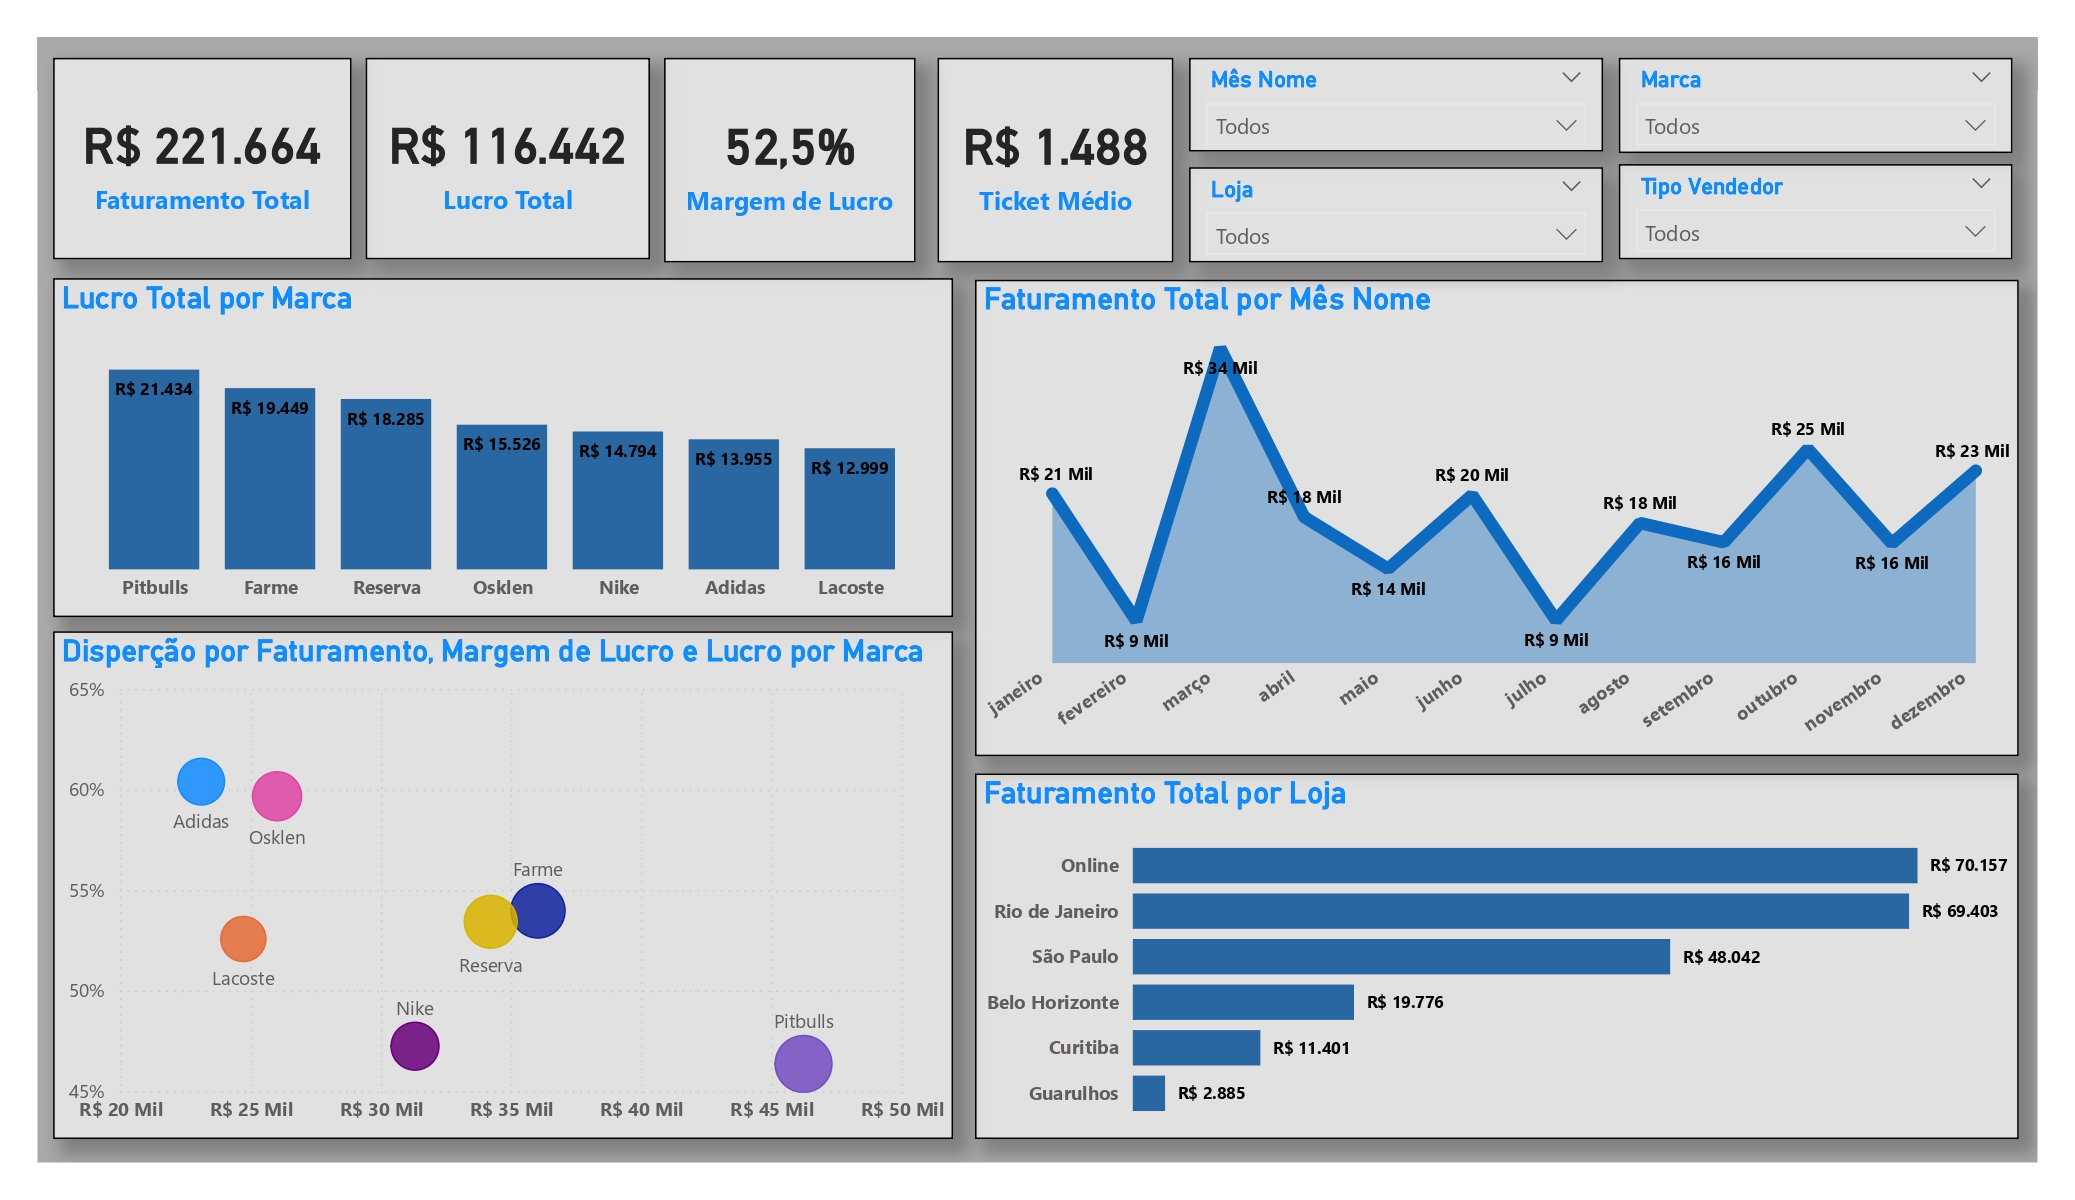

The dashboard page shown, as its layout file describes it:
{"tool":"powerbi","page":{"name":"Visão Executiva","canvas":[1280,720],"ordinal":0},"visuals":[{"type":"card","fields":{"Values":["Vendas.Faturamento Total"]},"box":[10.4,13.3,190.9,128.8],"z":0},{"type":"card","fields":{"Values":["Vendas.Lucro Total"]},"box":[210.2,13.3,182.1,128.8],"z":1000},{"type":"card","fields":{"Values":["Vendas.Ticket Médio"]},"box":[575.8,13.3,151,130.3],"z":2000},{"type":"card","fields":{"Values":["Vendas.Margem de Lucro"]},"box":[401.1,13.3,161.3,130.3],"z":3000},{"type":"columnChart","fields":{"Category":["Vendas.Marca"],"Y":["Vendas.Lucro Total"]},"box":[9.9,153.7,576.3,216.9],"z":4000},{"type":"barChart","fields":{"Category":["Vendas.Loja"],"Y":["Vendas.Faturamento Total"]},"box":[599.8,471,668,234.2],"z":5000},{"type":"areaChart","fields":{"Y":["Vendas.Faturamento Total"],"Category":["dCalendario.Mês Nome"]},"box":[599.8,154.9,668,304.9],"z":6000},{"type":"scatterChart","title":"Disperção por Faturamento, Margem de Lucro e Lucro por Marca","fields":{"X":["Vendas.Faturamento Total"],"Y":["Vendas.Margem de Lucro"],"Size":["Vendas.Lucro Total"],"Series":["Vendas.Marca"]},"box":[9.9,380.5,576.3,324.7],"z":7000},{"type":"slicer","fields":{"Values":["dCalendario.Mês Nome"]},"box":[737.1,13.3,264.9,59.2],"z":8000},{"type":"slicer","fields":{"Values":["Vendas.Marca"]},"box":[1012.4,13.3,251.6,60.7],"z":9000},{"type":"slicer","fields":{"Values":["Vendas.Loja"]},"box":[737.1,82.9,264.9,60.7],"z":10000},{"type":"slicer","fields":{"Values":["Vendas.Tipo Vendedor"]},"box":[1012.4,81.4,251.6,60.7],"z":11000}]}

Visuals, with their boxes in screenshot pixels (x1, y1, x2, y2):
card - Vendas.Faturamento Total: region(54, 58, 352, 260)
card - Vendas.Lucro Total: region(366, 58, 650, 260)
card - Vendas.Ticket Médio: region(937, 58, 1173, 262)
card - Vendas.Margem de Lucro: region(664, 58, 916, 262)
columnChart - Vendas.Marca x Vendas.Lucro Total: region(53, 278, 953, 617)
barChart - Vendas.Loja x Vendas.Faturamento Total: region(975, 773, 2018, 1139)
areaChart - Vendas.Faturamento Total x dCalendario.Mês Nome: region(975, 280, 2018, 756)
"Disperção por Faturamento, Margem de Lucro e Lucro por Marca" scatterChart: region(53, 632, 953, 1139)
slicer - dCalendario.Mês Nome: region(1189, 58, 1603, 151)
slicer - Vendas.Marca: region(1619, 58, 2012, 153)
slicer - Vendas.Loja: region(1189, 167, 1603, 262)
slicer - Vendas.Tipo Vendedor: region(1619, 165, 2012, 260)
